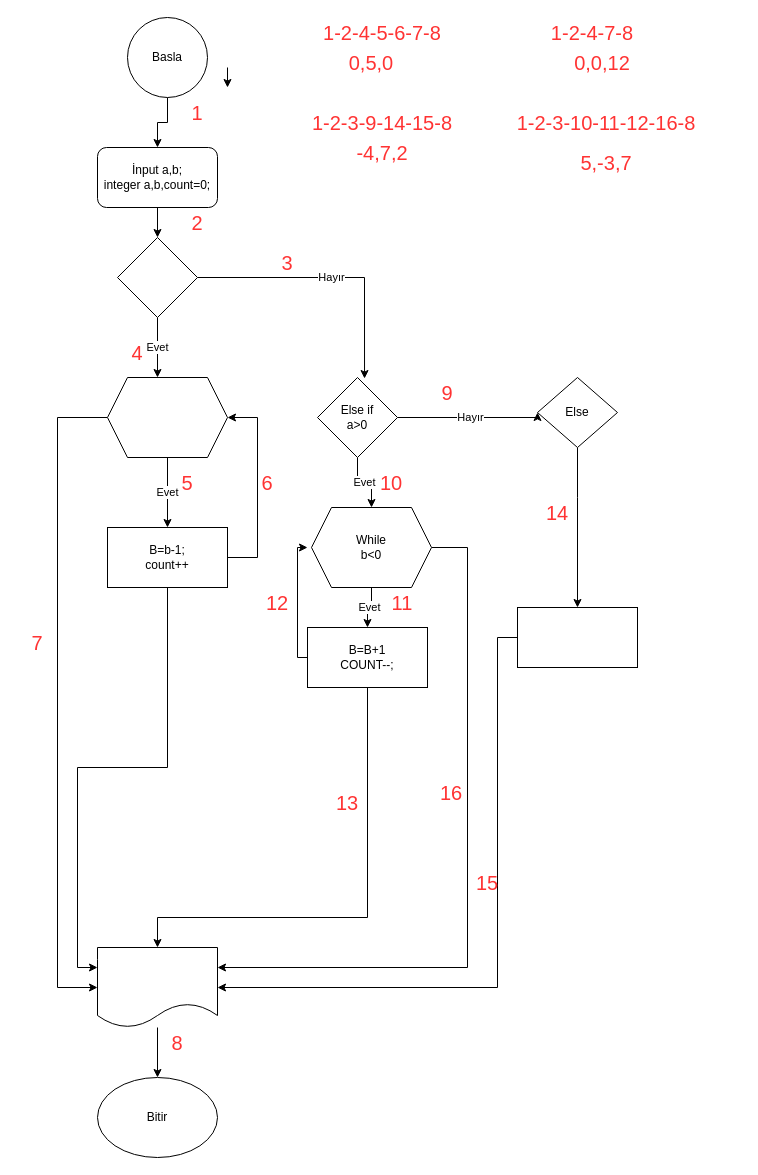
This 758x1175 diagram has some shape labels left out. Here are the shapes that lost their labels. From the top down, the centre of each, then its label:
At pixel 157 277: "A==0".
At pixel 167 417: "While B>0".
At pixel 577 637: "A=B".
At pixel 157 987: "A,B,COUNT".
